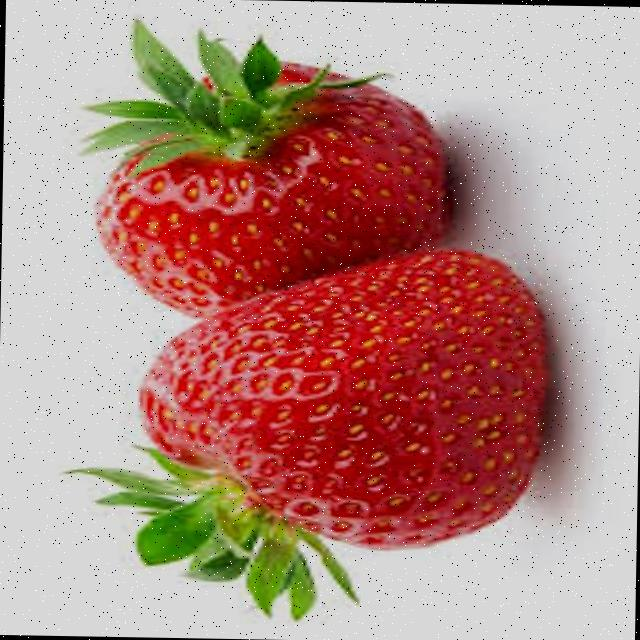strawberry: (72, 249, 545, 617), (87, 20, 449, 315)
